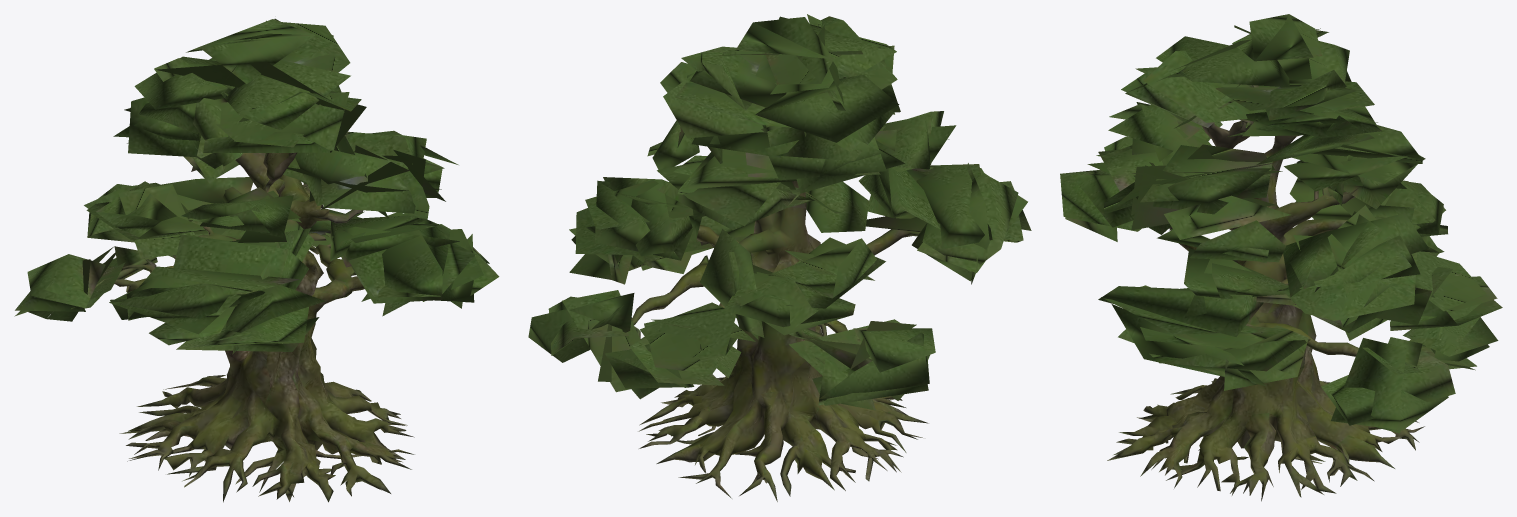
File: prop_forest_tree.glb
3 views of the same model, side by side, from view 1: azimuth 30°, elevation 25°; view 2: azimuth 150°, elevation 25°; view 3: azimuth 270°, elevation 25° (orthographic).
Size of the model in its own units: 0.9458 by 0.9512 by 0.9204.
1 material, 1 textured.
